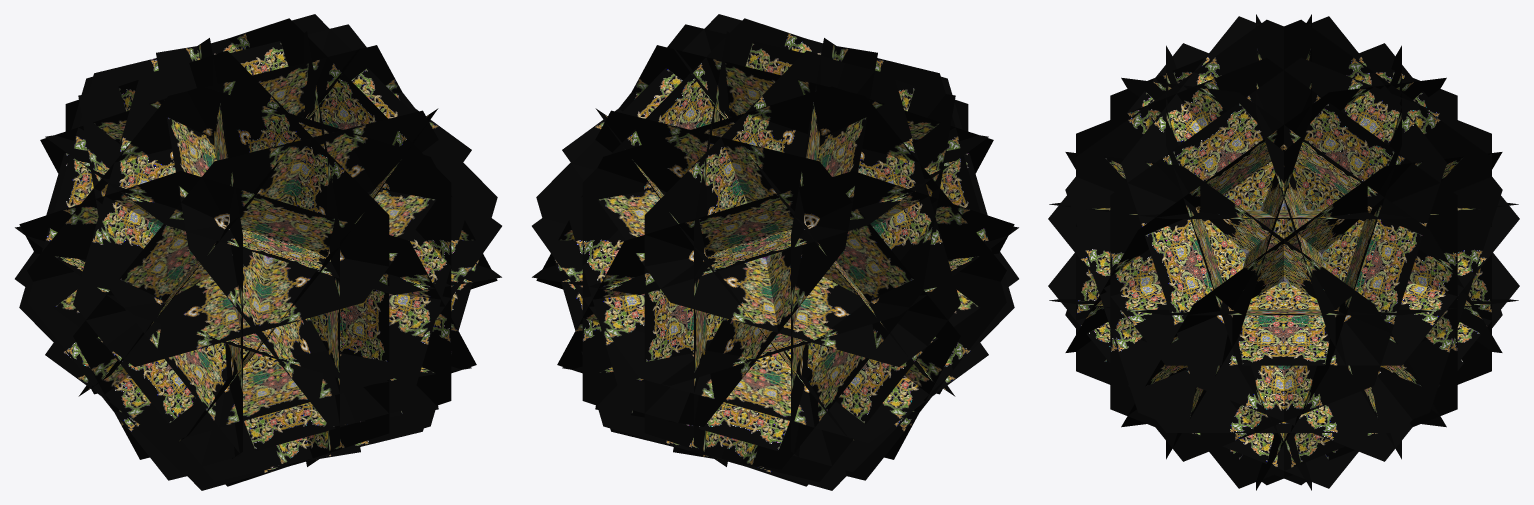
The model's file is GreatTruncatedIcosidodecahedron4.gltf.
3 views of the same model, side by side, from view 1: azimuth 30°, elevation 25°; view 2: azimuth 150°, elevation 25°; view 3: azimuth 270°, elevation 25° (orthographic). The views are drawn at different scales.
Visible parts, largest first — view 1: GreatTruncatedIcosidodecahedron; view 2: GreatTruncatedIcosidodecahedron; view 3: GreatTruncatedIcosidodecahedron.
Part boxes in pixels (<box>): GreatTruncatedIcosidodecahedron: <box>15,14,501,490</box>; GreatTruncatedIcosidodecahedron: <box>532,14,1018,490</box>; GreatTruncatedIcosidodecahedron: <box>1048,14,1519,490</box>.
Bounding box in the file's own units: 2 × 2 × 2.
Materials: 1 (1 with a texture image).
